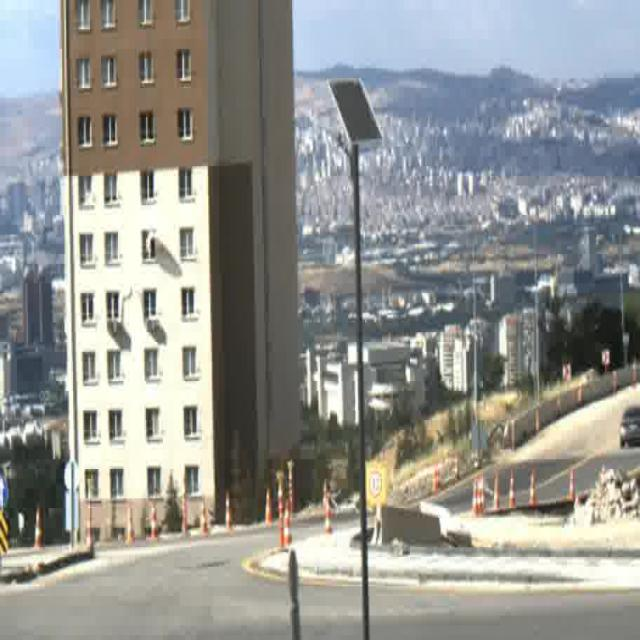Car: (618, 405, 640, 451)
